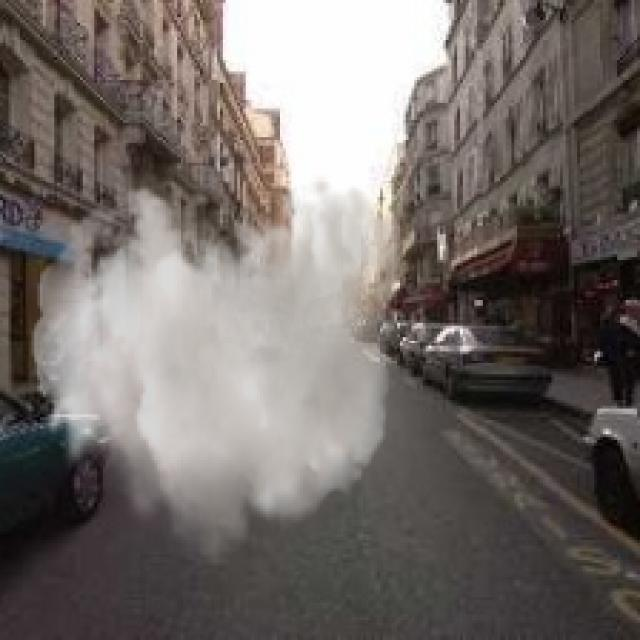Smoke: (31, 175, 406, 574)
